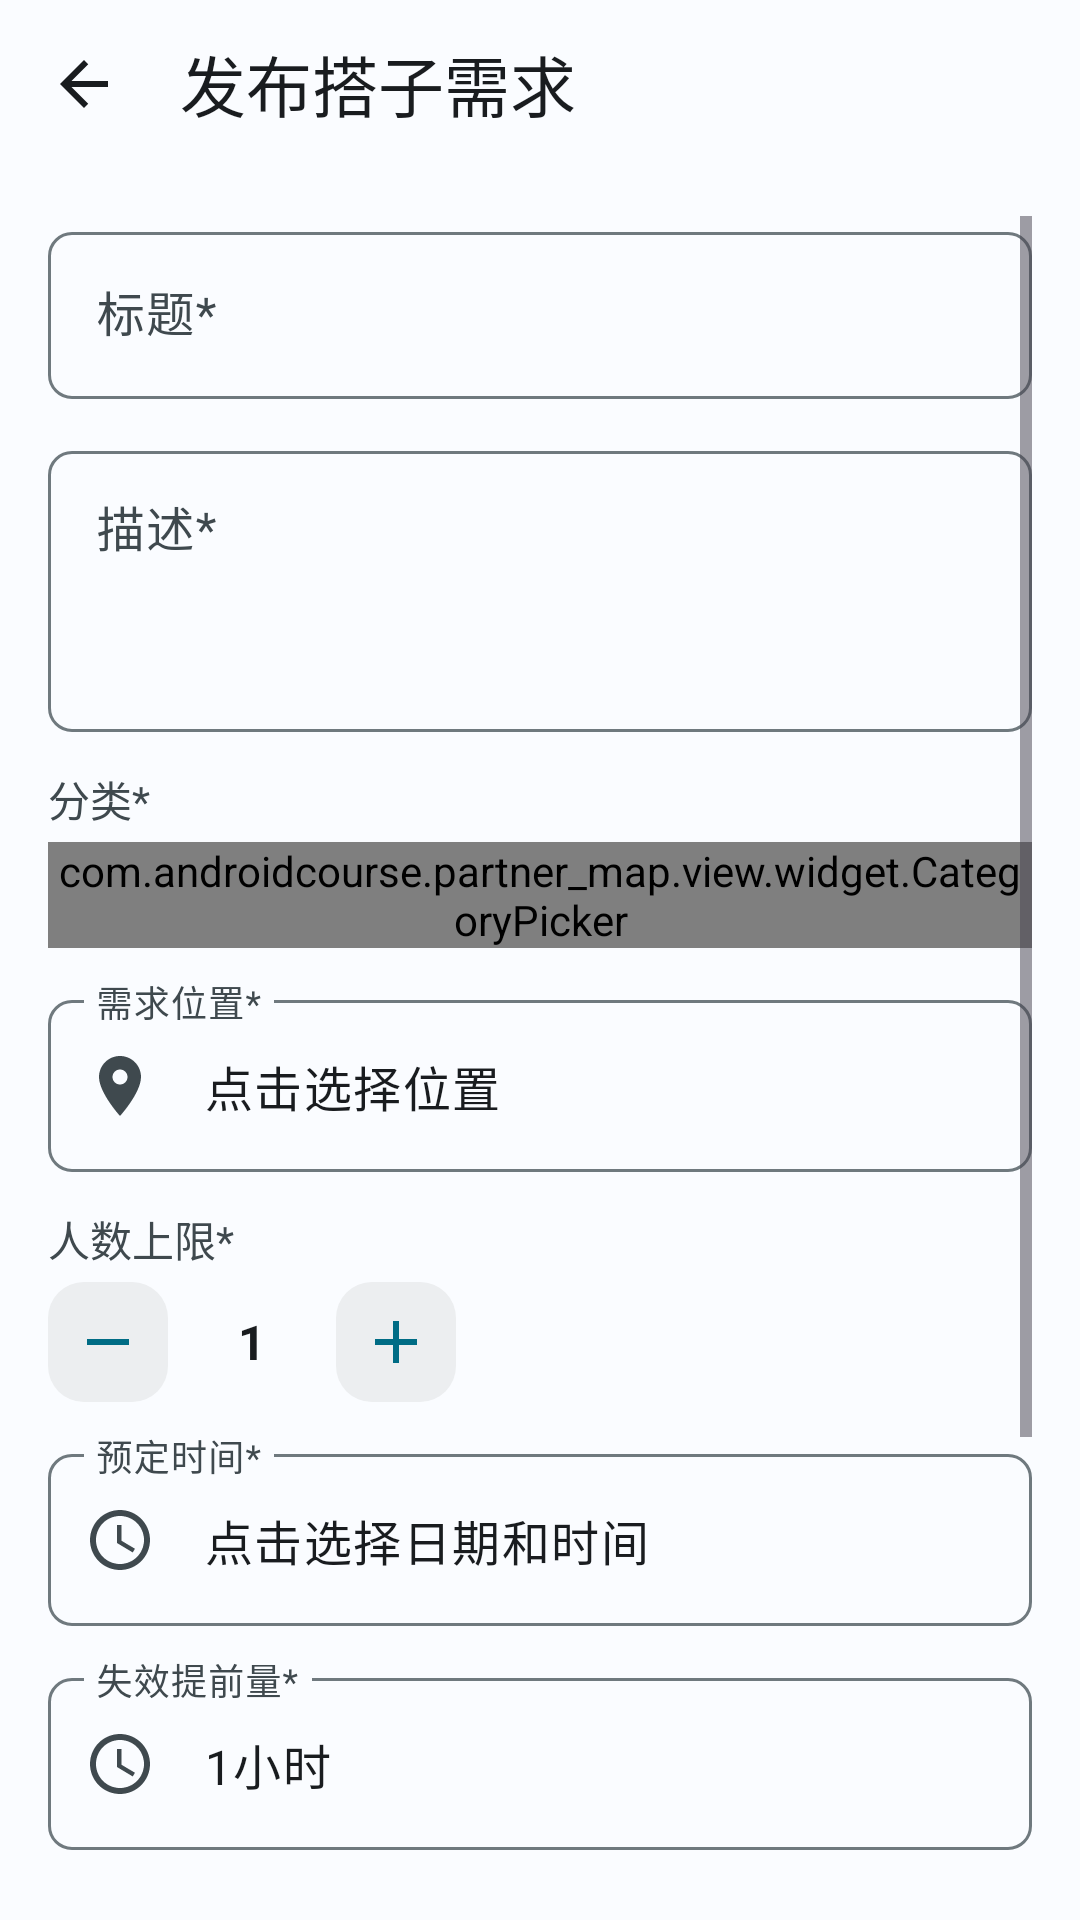

Icons on this 1080px x 1920px Android screen, each with the point to tap as [x,y]:
增加: [396,1342]
